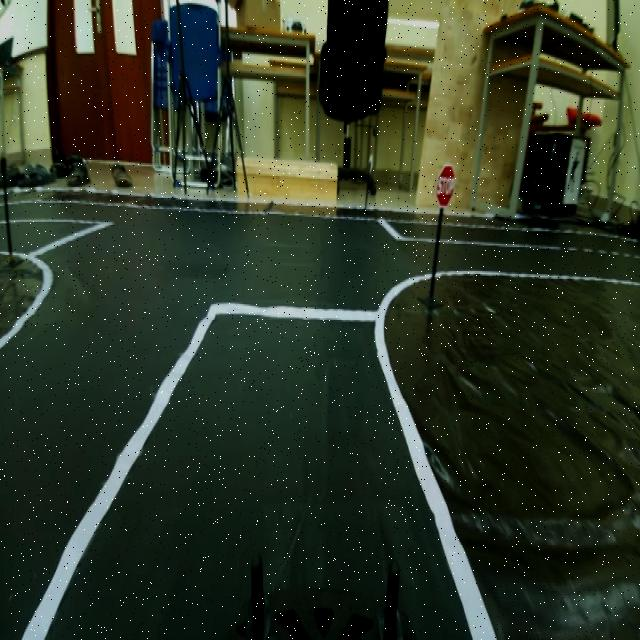stop: (435, 158, 457, 211)
